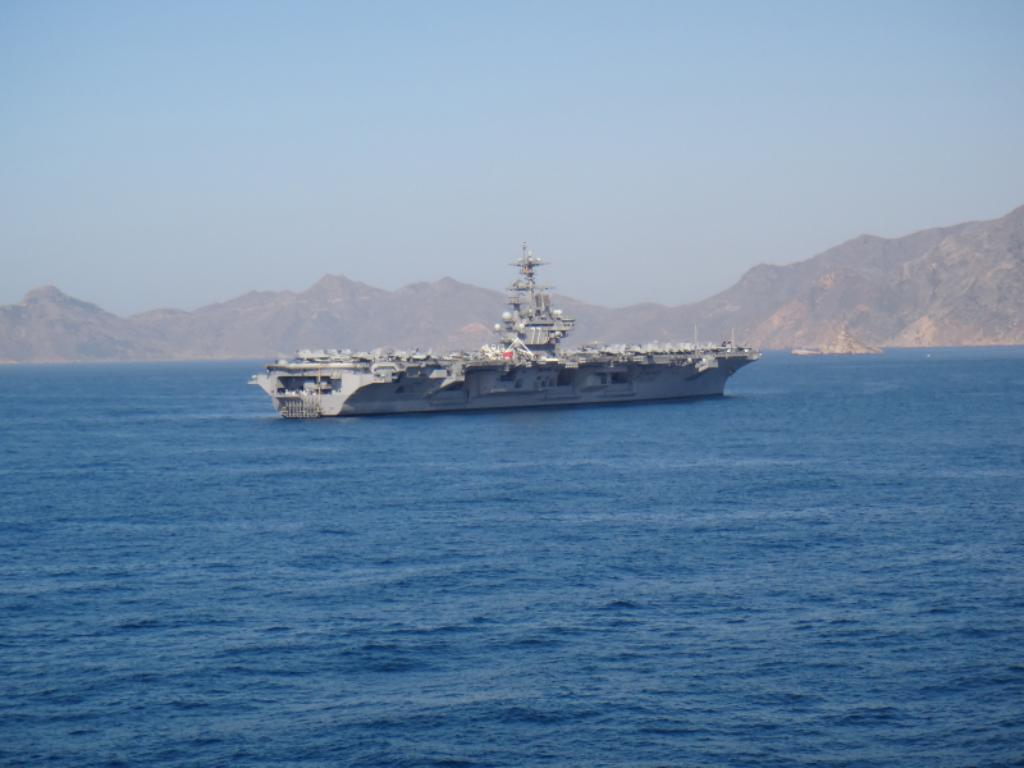Warship: (244, 232, 772, 430)
